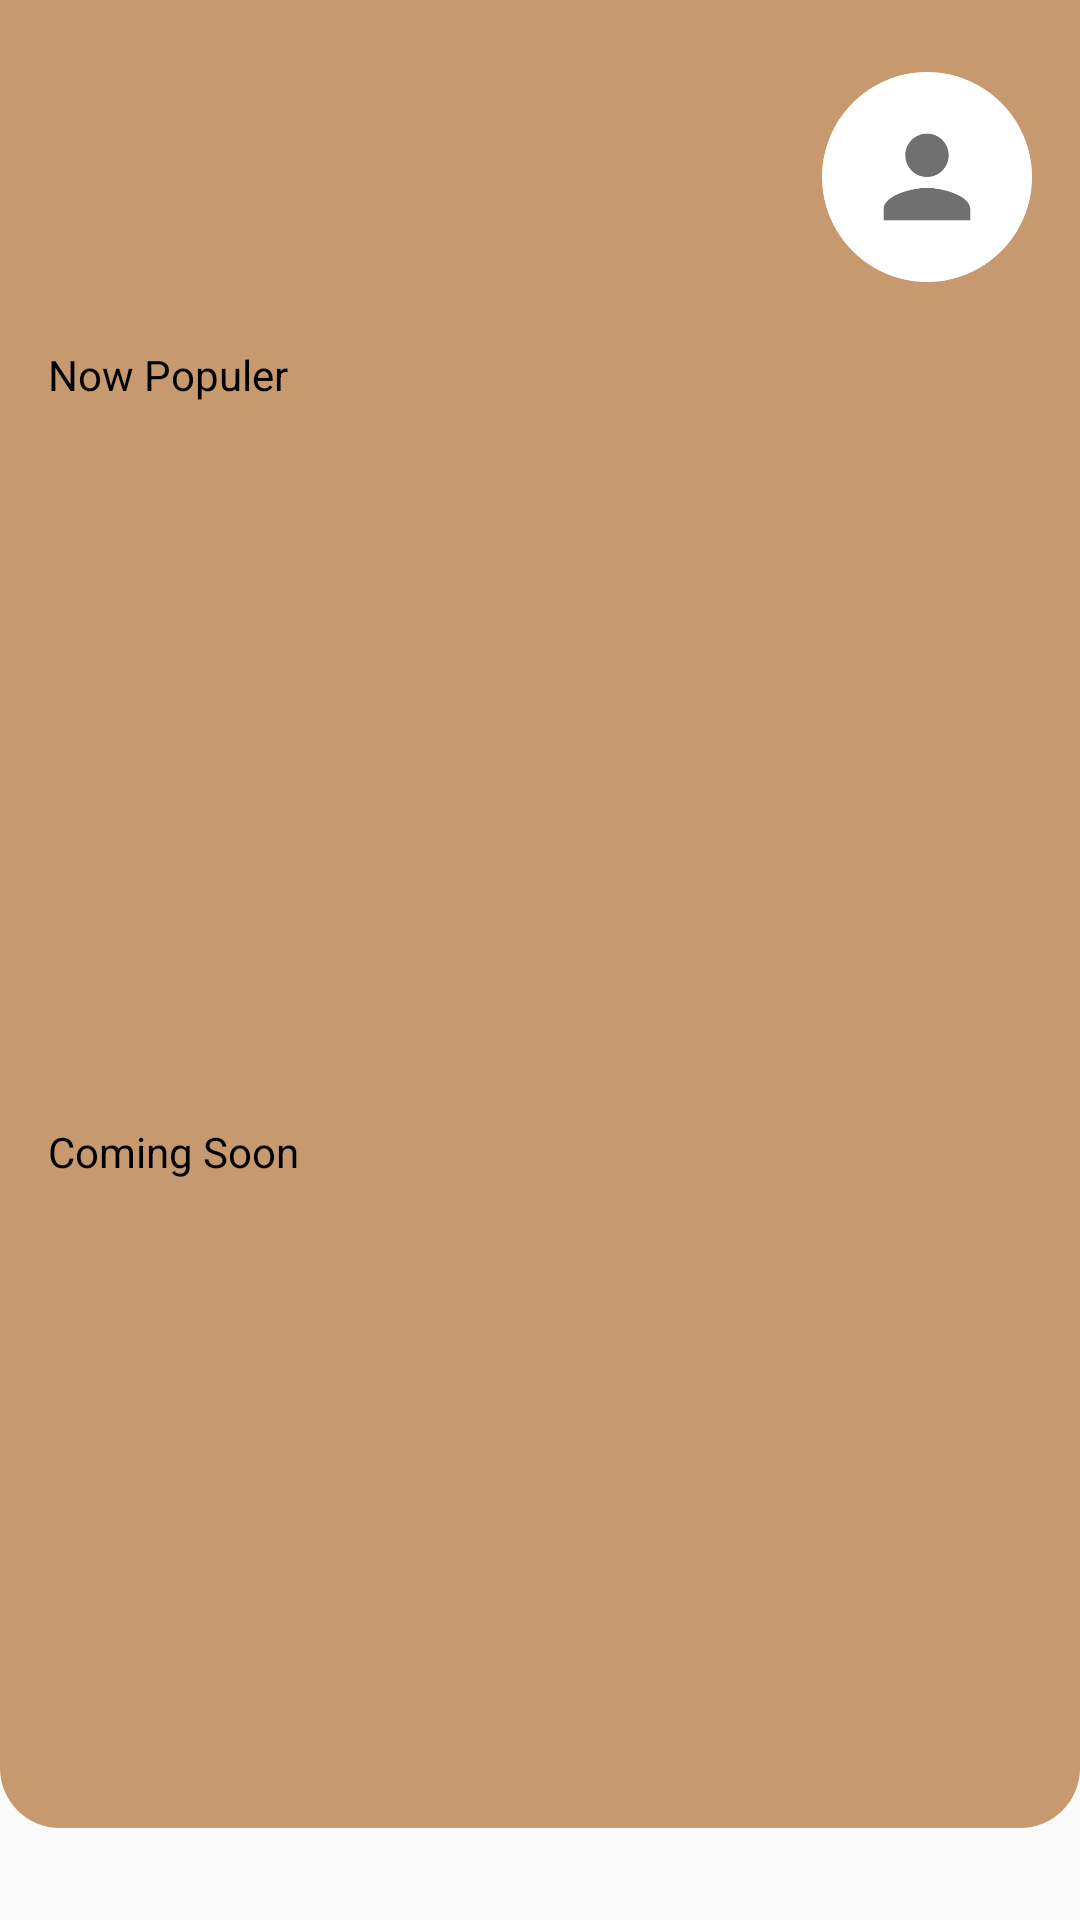

Where icons sit on this 1080w x 1920h app screen, as (x1, y1, x2, y2):
user pic: (822, 72, 1032, 282)
